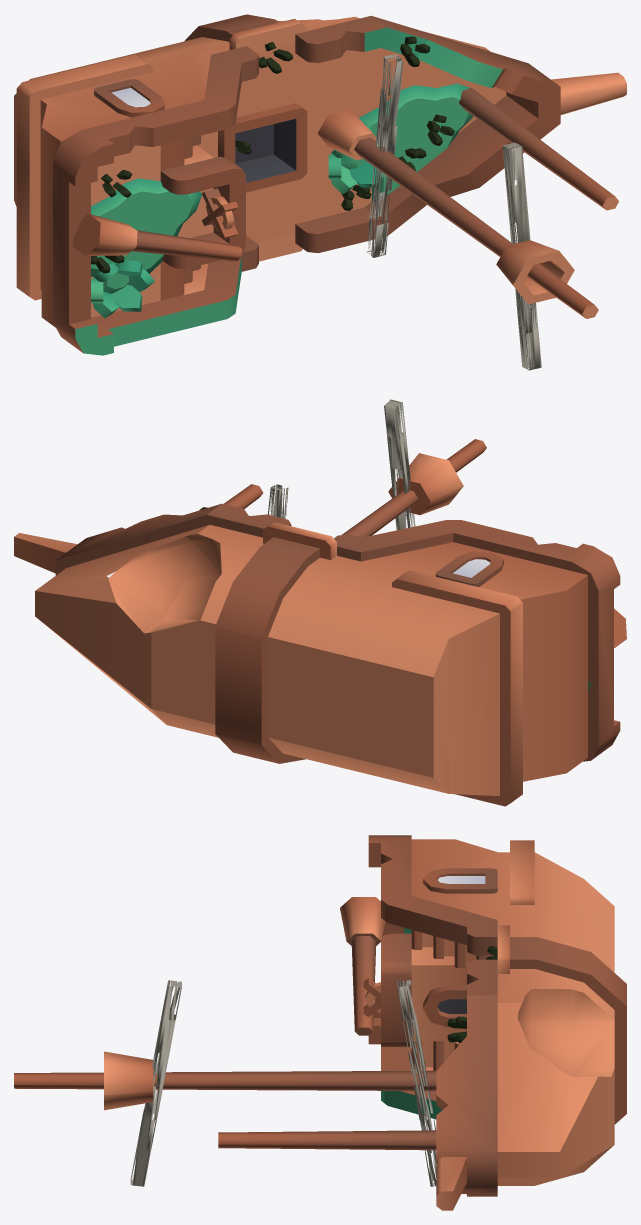
File: SM_Wreck_Hulk.obj
3 renders of one model, top to bottom at view 1: azimuth 30°, elevation 25°; view 2: azimuth 150°, elevation 25°; view 3: azimuth 270°, elevation 25°, orthographic. The views are drawn at different scales.
Visible parts, largest first — view 1: SM_Wreck_Hulk; view 2: SM_Wreck_Hulk; view 3: SM_Wreck_Hulk.
Part boxes in pixels (bbox=[...]): SM_Wreck_Hulk: bbox=[14, 14, 626, 370]; SM_Wreck_Hulk: bbox=[14, 399, 626, 806]; SM_Wreck_Hulk: bbox=[14, 835, 626, 1210].
Size of the model in its own units: 3800 by 1411 by 3572.
Materials: 3 (1 with a texture image).
